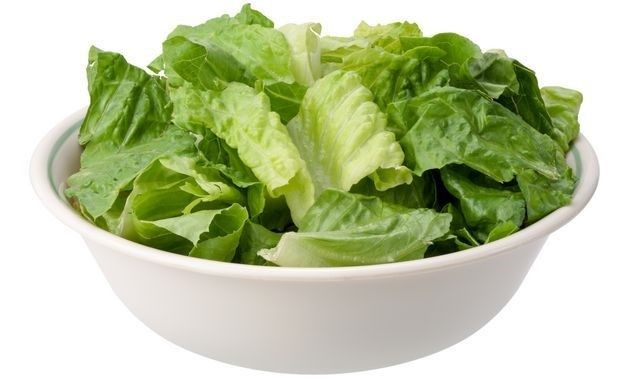chopped lettuce: (148, 36, 509, 234)
